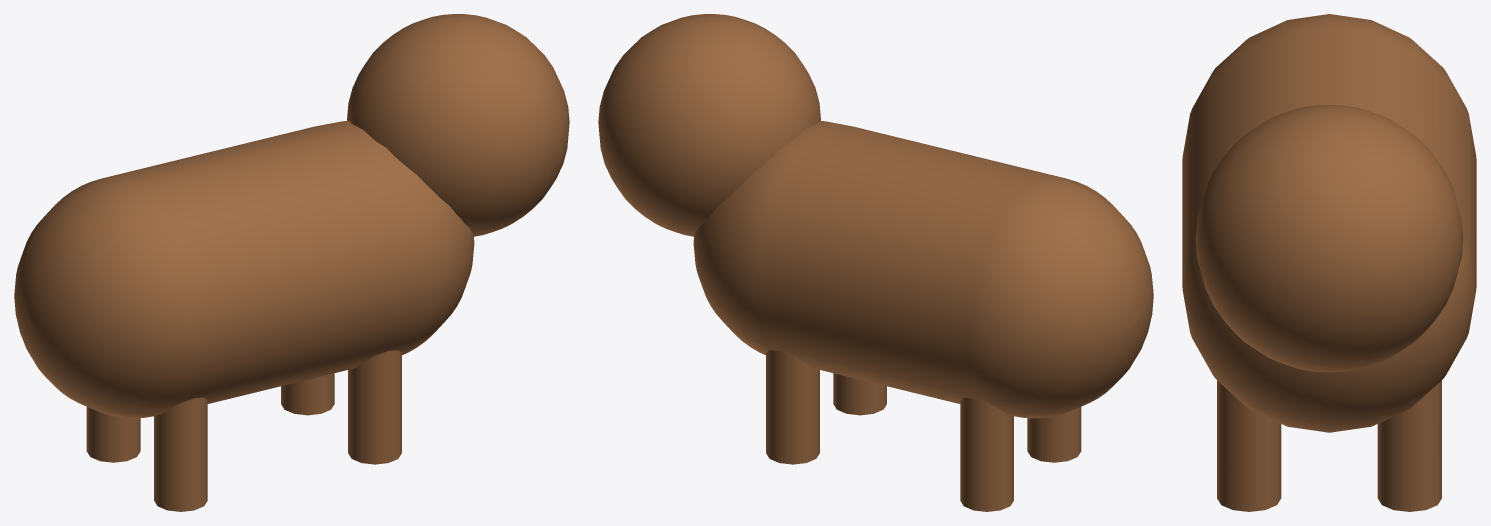
Rendered from oso.glb.
The picture shows the model from 3 angles, left to right: view 1: azimuth 30°, elevation 25°; view 2: azimuth 150°, elevation 25°; view 3: azimuth 270°, elevation 25°; orthographic projection. The views are drawn at different scales.
Bounding box in the file's own units: 2.7 × 1.85 × 1.1.
